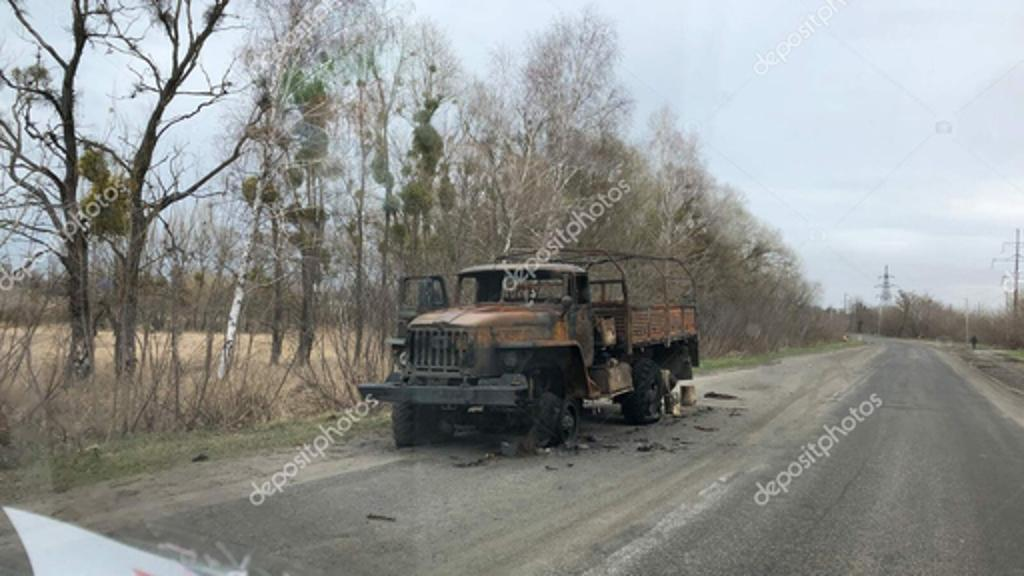TRUCK: (356, 242, 704, 450)
